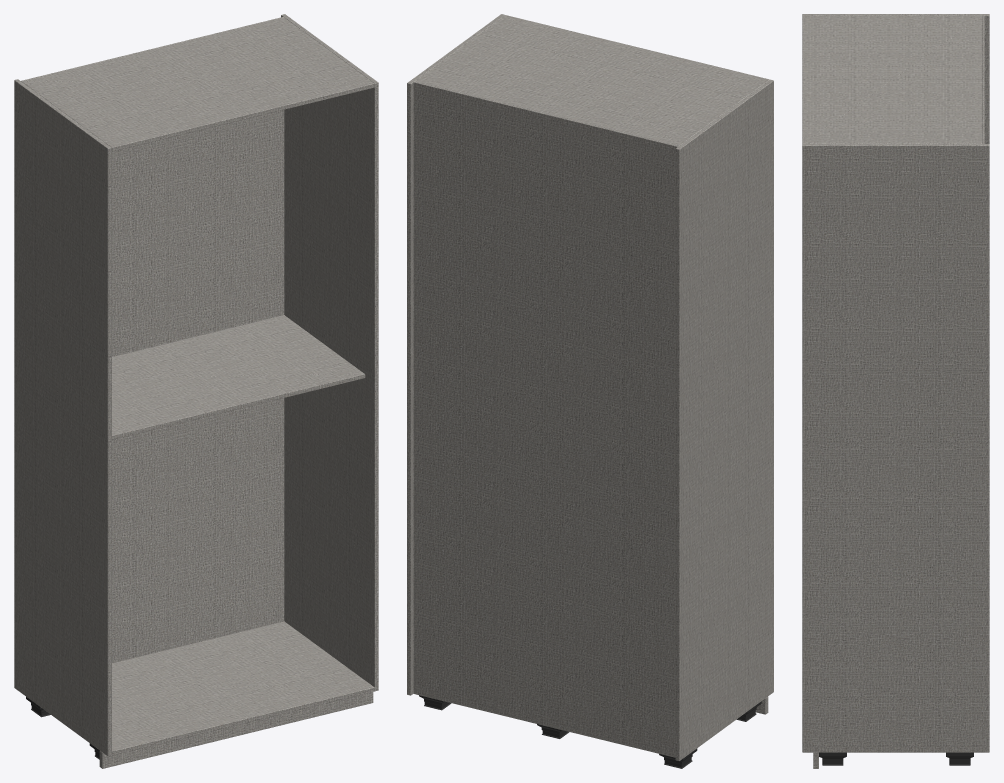
File: cbib12117.gltf
The picture shows the model from 3 angles, left to right: view 1: azimuth 30°, elevation 25°; view 2: azimuth 150°, elevation 25°; view 3: azimuth 270°, elevation 25°; orthographic projection.
Parts seen in each view (by area): view 1: CBIB12117; view 2: CBIB12117; view 3: CBIB12117.
Boxes of the visible parts, x1=… form: CBIB12117: x1=14, y1=14, x2=378, y2=768; CBIB12117: x1=407, y1=14, x2=773, y2=768; CBIB12117: x1=802, y1=14, x2=989, y2=768.
Size of the model in its own units: 1 by 2.2 by 0.6.
Materials: 3 (2 with a texture image).
